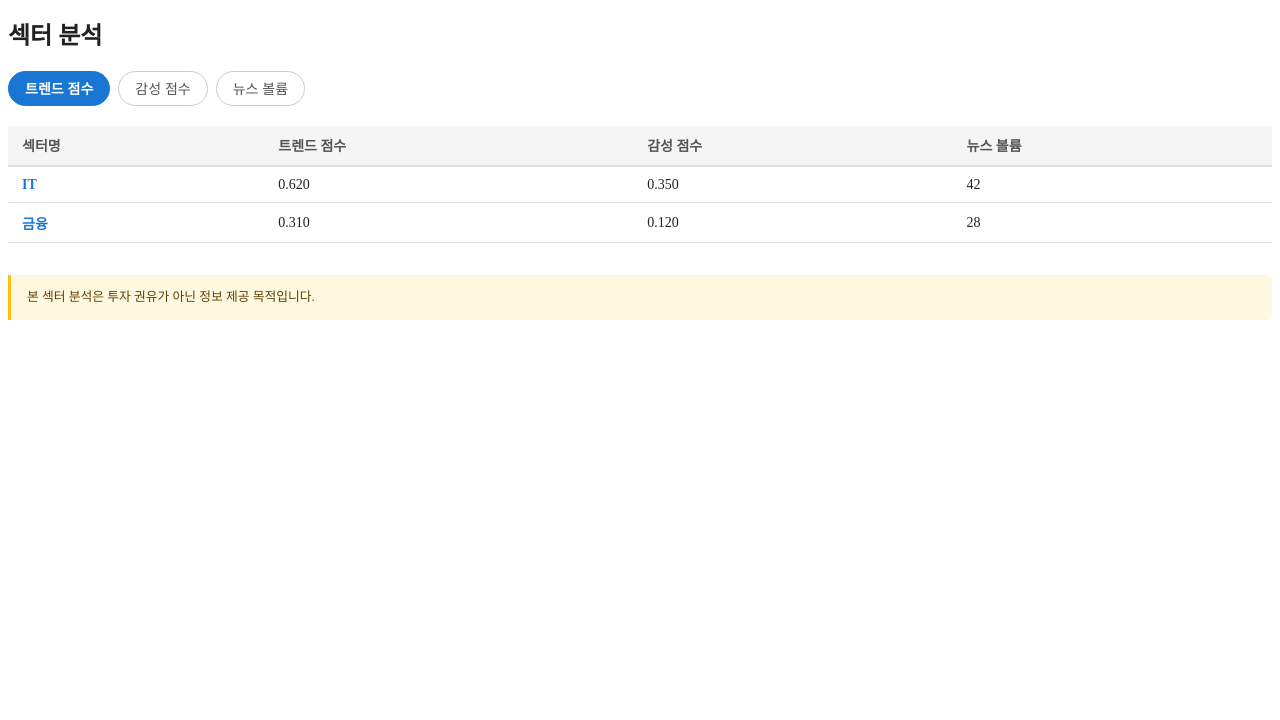
Test case: Sectors 페이지 › 행 클릭 시 섹터 상세 패널이 열린다
Click the text "IT": (29, 184) [8, 166, 264, 203]
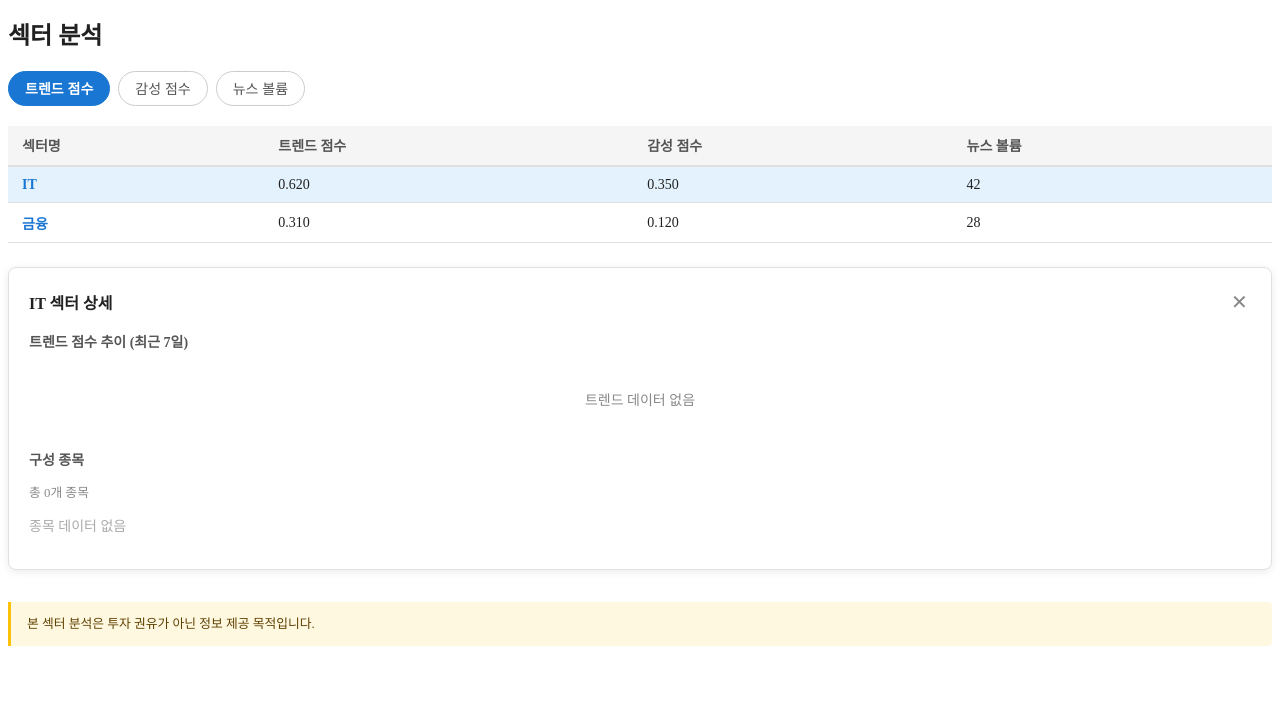
Result: the heading "IT 섹터 상세" is shown at [29, 290, 112, 314]
